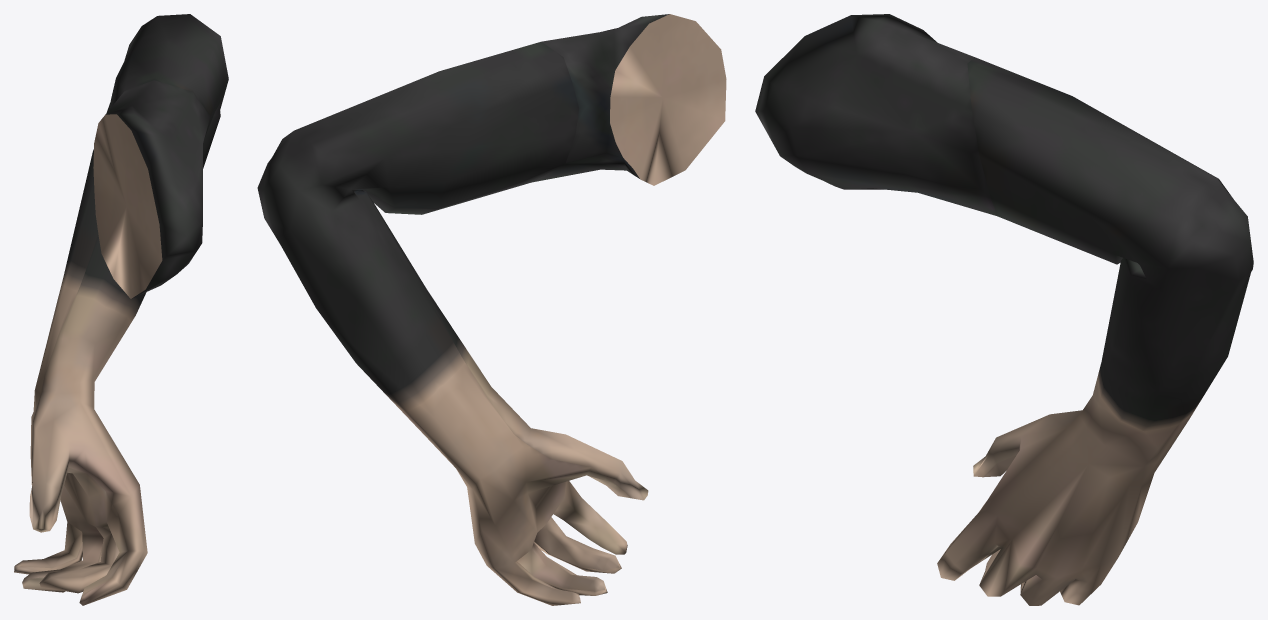
Rendered from dest_nt_nuked_female_02_arm_left_LOD1.obj.
The picture shows the model from 3 angles, left to right: view 1: azimuth 30°, elevation 25°; view 2: azimuth 150°, elevation 25°; view 3: azimuth 270°, elevation 25°; orthographic projection. The views are drawn at different scales.
Visible parts, largest first — view 1: mtl_nt_2020_manne_fem01_head1; view 2: mtl_nt_2020_manne_fem01_head1; view 3: mtl_nt_2020_manne_fem01_head1.
Part boxes in pixels (<box>): mtl_nt_2020_manne_fem01_head1: <box>14,14,228,605</box>; mtl_nt_2020_manne_fem01_head1: <box>257,14,726,605</box>; mtl_nt_2020_manne_fem01_head1: <box>755,14,1253,605</box>.
Size of the model in its own units: 22.03 by 39.48 by 31.03.
